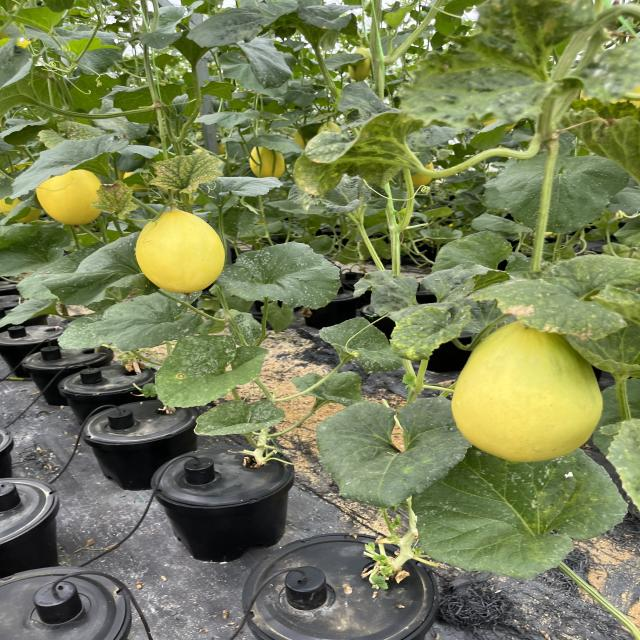CMV: (151, 154, 223, 194)
SLCV: (394, 0, 640, 125)
alternaria leaf blight: (388, 308, 464, 361), (98, 182, 138, 219)
downy mildew: (413, 445, 629, 572), (311, 110, 413, 165), (0, 215, 83, 279), (361, 269, 426, 315), (422, 265, 480, 310), (285, 160, 353, 194)
healthy: (312, 400, 475, 505), (7, 134, 127, 200), (15, 5, 124, 76), (77, 292, 207, 351), (186, 1, 299, 50), (426, 232, 531, 282), (0, 70, 114, 116), (301, 1, 363, 45), (212, 169, 282, 204)
powdery mildew: (210, 240, 368, 304), (152, 335, 275, 404), (62, 236, 152, 305), (320, 320, 412, 375), (196, 396, 283, 438), (298, 372, 375, 408), (221, 311, 266, 339)
